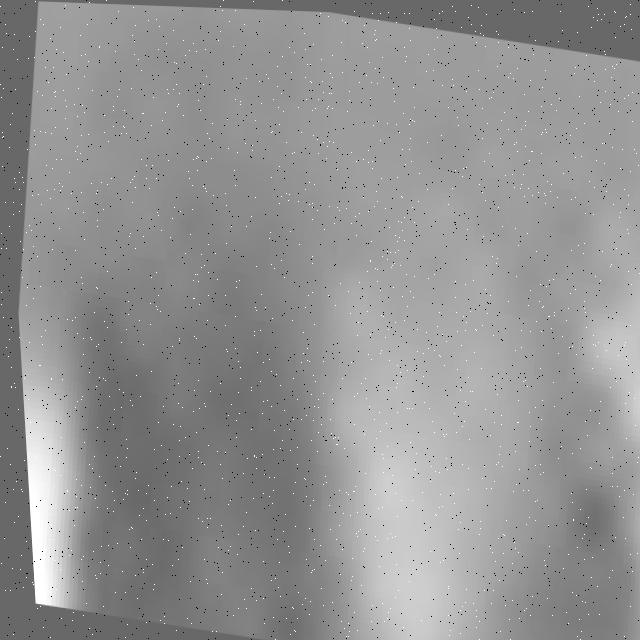person: (289, 250, 565, 640), (13, 254, 101, 610)
